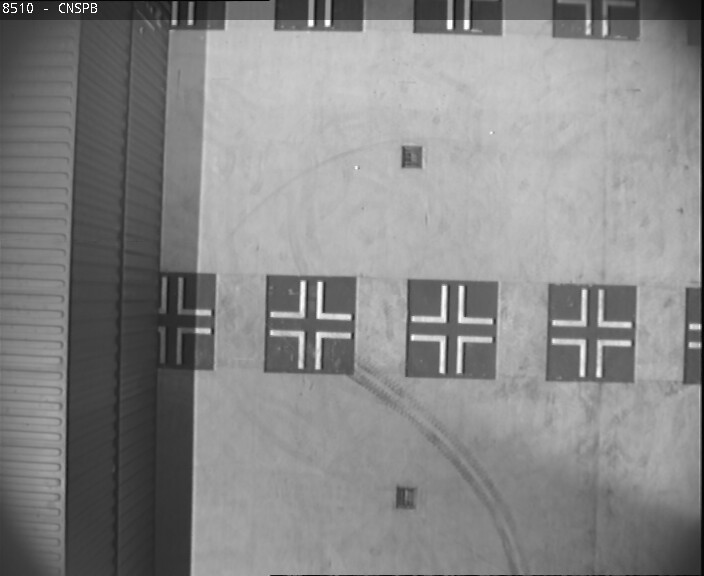groundmarker_1: (266, 280, 351, 318), (546, 341, 631, 379), (408, 287, 492, 325), (550, 289, 634, 327), (266, 329, 350, 367), (409, 333, 493, 371), (175, 278, 210, 365)
